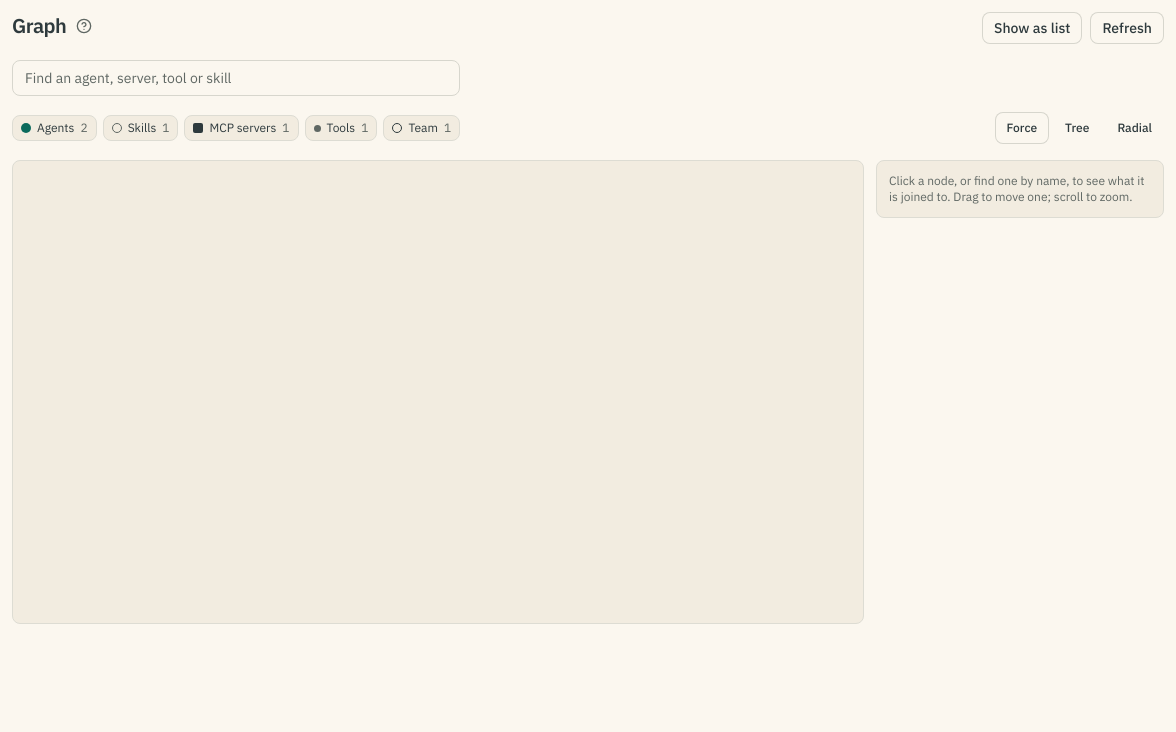
it: reads the hub in the list and the panel, and leads to where it is chosen
Click the button "Show as list" at point(1032, 28), box [982,12,1082,44]
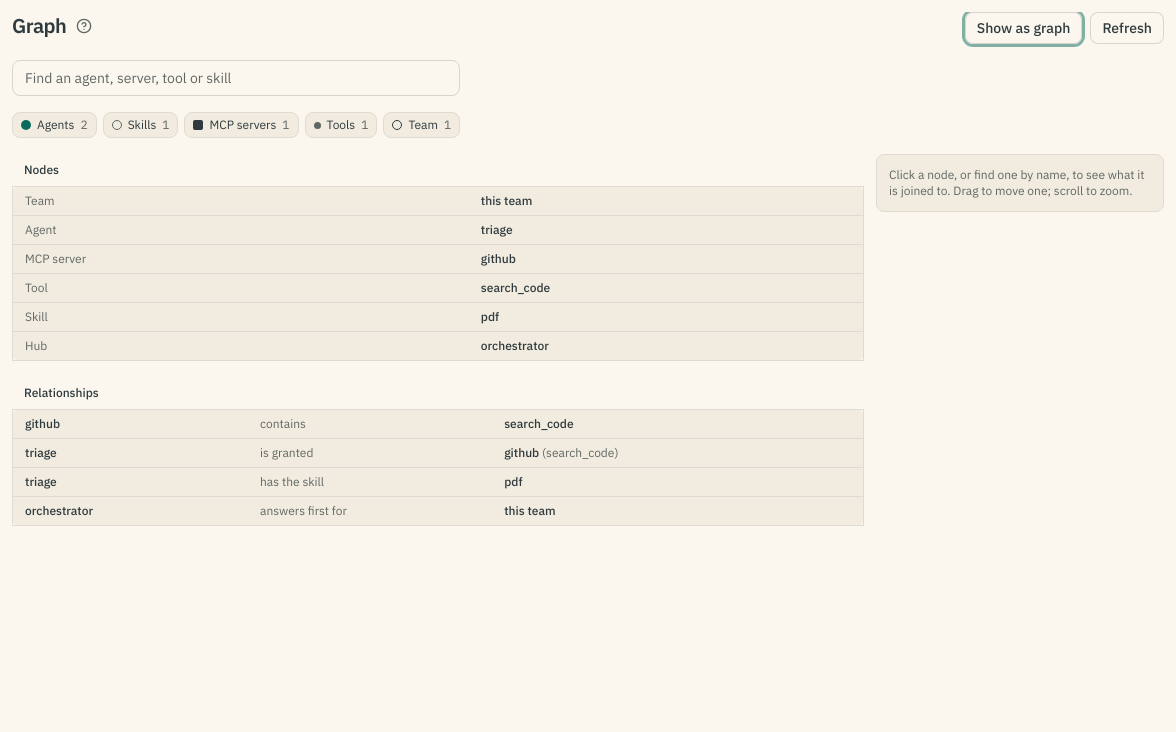
Expected: the text "Hub" is shown, [12,332,481,360]
Expected: the text "MCP server" is shown, [12,244,481,274]
Click the button "orchestrator" at point(515, 346), box [481,338,549,354]
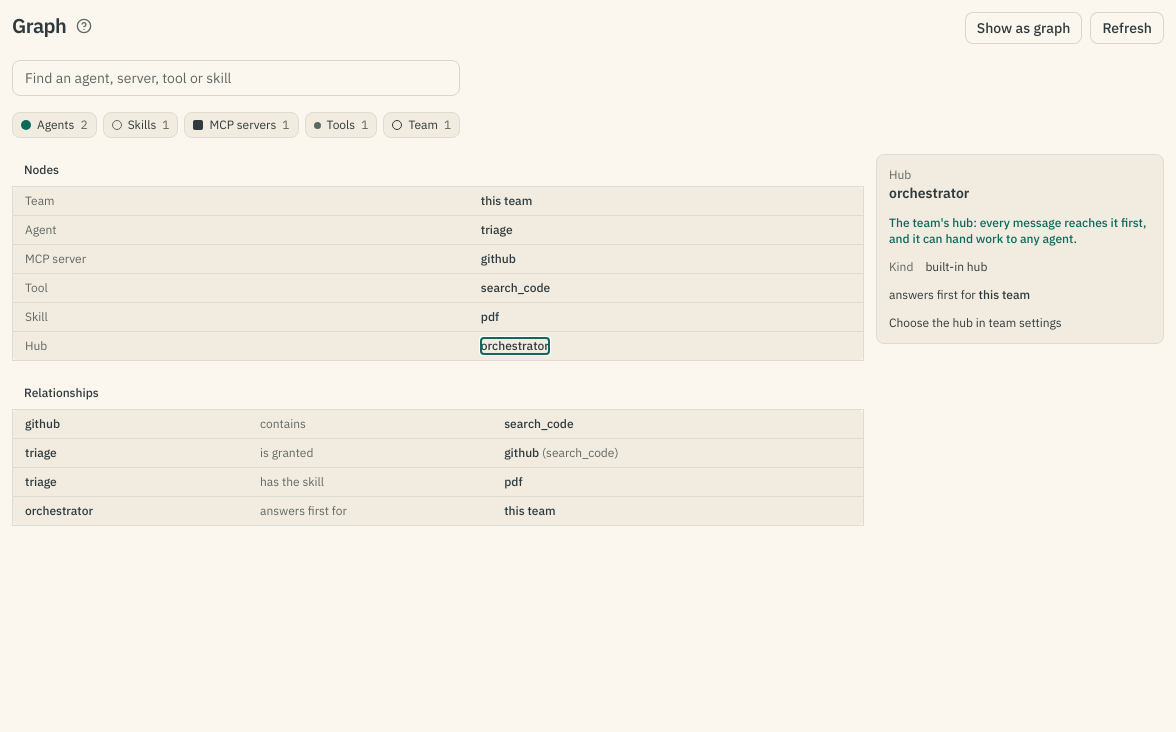
Expected: the element named "Selected node" shows "The team's hub: every message reaches it first", [889,215,1146,246]
